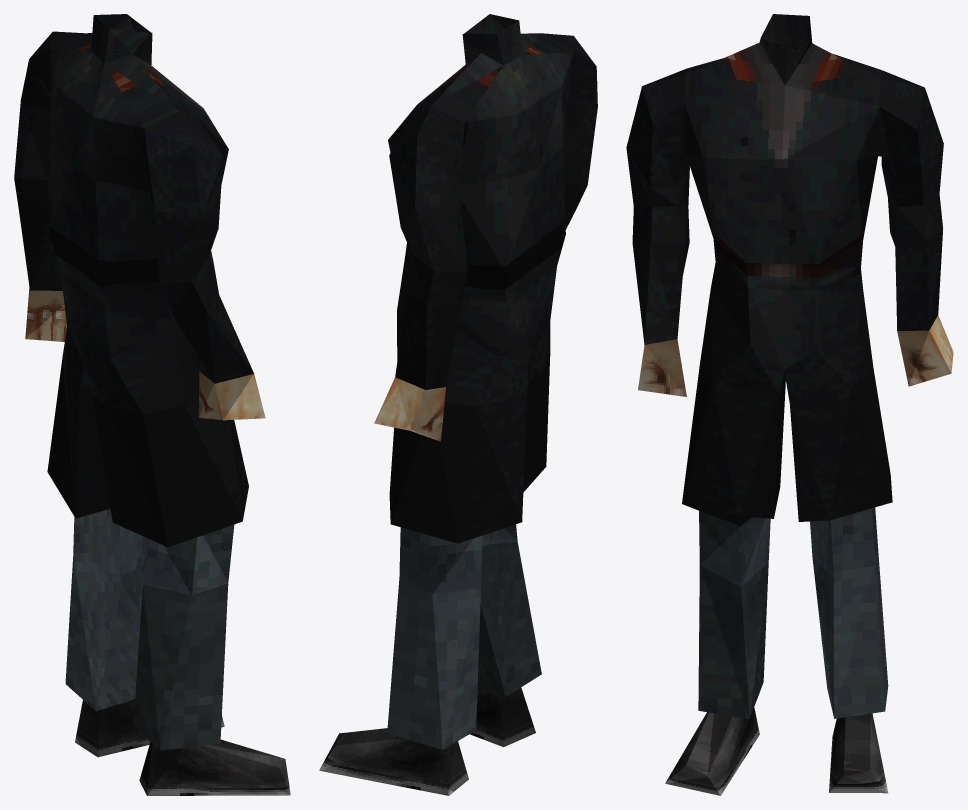
File: primary_028.glb
3 views of the same model, side by side, from view 1: azimuth 30°, elevation 25°; view 2: azimuth 150°, elevation 25°; view 3: azimuth 270°, elevation 25° (orthographic). The views are drawn at different scales.
Parts seen in each view (by area): view 1: Object; view 2: Object; view 3: Object.
Boxes of the visible parts, box(x1,y1,x2,y2) form: Object: box(14, 14, 290, 795); Object: box(319, 14, 597, 795); Object: box(626, 14, 953, 795).
Size of the model in its own units: 0.4354 by 1.8 by 0.7431.
Materials: 68 (68 with a texture image).
